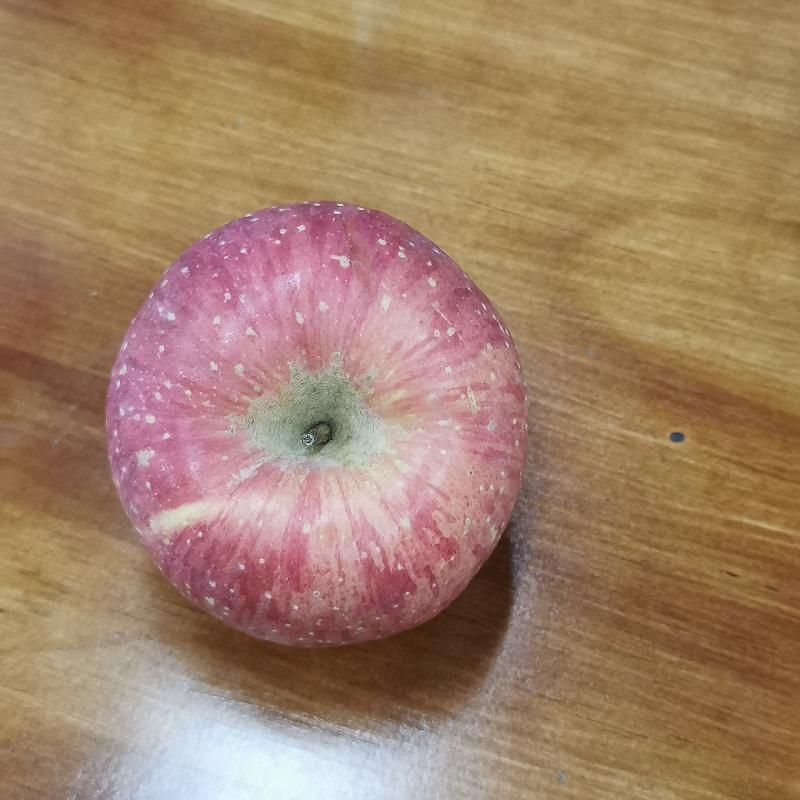apples: (95, 195, 532, 666)
